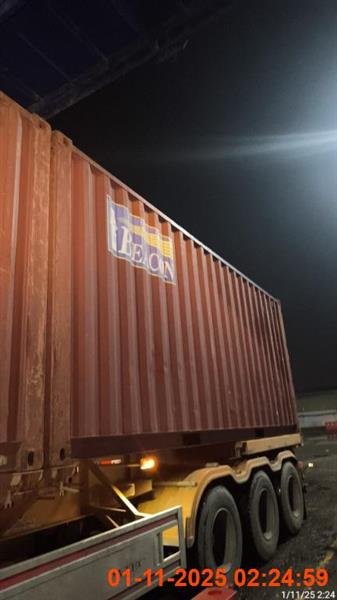broken: (1, 89, 307, 593)
